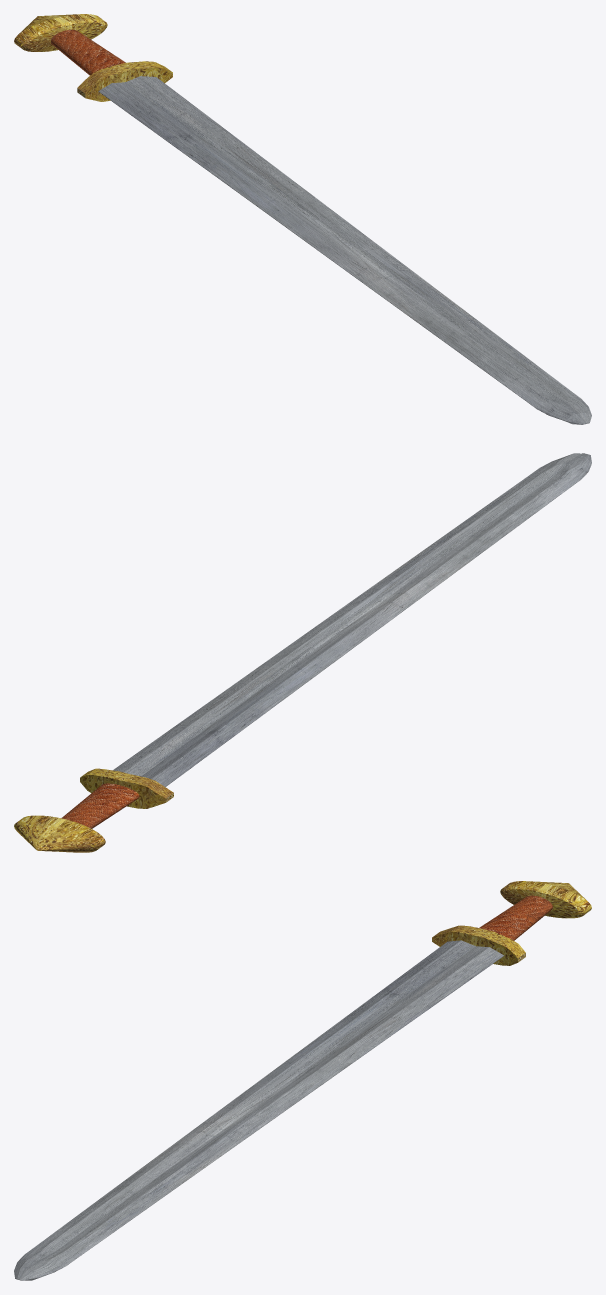
File: Karoling.fbx
3 views of the same model, one above another, from view 1: azimuth 30°, elevation 25°; view 2: azimuth 150°, elevation 25°; view 3: azimuth 330°, elevation 25° (orthographic). The views are drawn at different scales.
Visible parts, largest first — view 1: Plane; view 2: Plane; view 3: Plane.
Boxes of the visible parts, x1=… form: Plane: x1=14, y1=14, x2=591, y2=424; Plane: x1=14, y1=453, x2=591, y2=852; Plane: x1=14, y1=881, x2=591, y2=1280.
Bounding box in the file's own units: 72.03 × 19.76 × 775.
